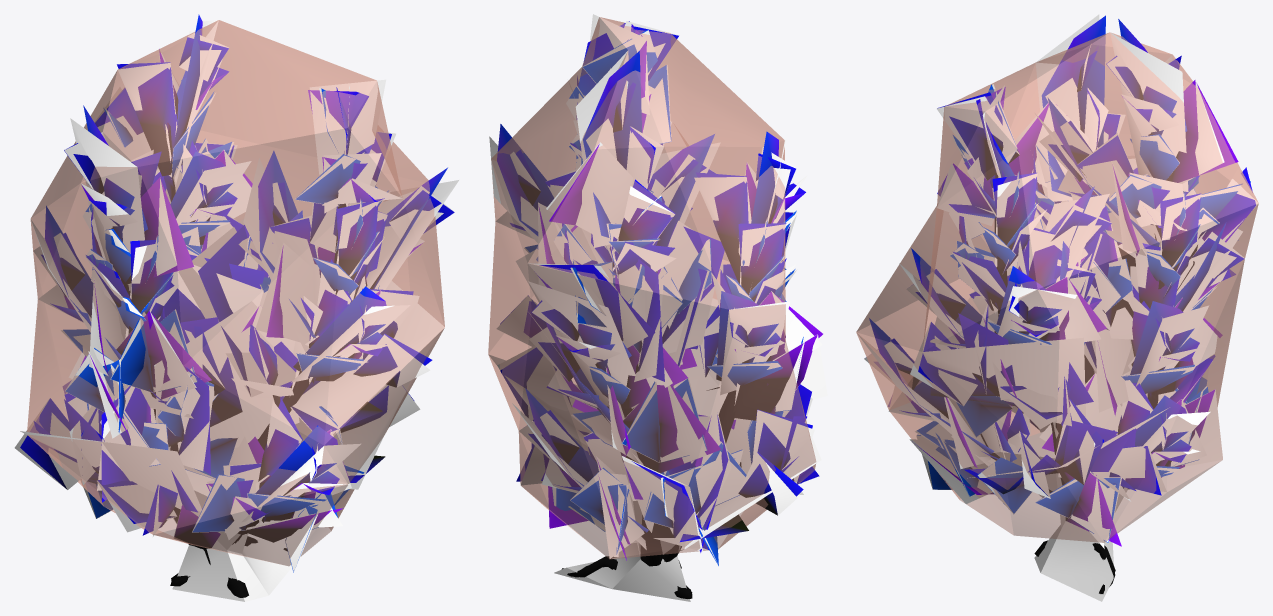
File: Juniper_tree_02.dae
The picture shows the model from 3 angles, left to right: view 1: azimuth 30°, elevation 25°; view 2: azimuth 150°, elevation 25°; view 3: azimuth 270°, elevation 25°; orthographic projection. The views are drawn at different scales.
Parts seen in each view (by area): view 1: Colmesh-1, Juniper_tree_02_a300, Juniper_tree_02_a800; view 2: Colmesh-1, Juniper_tree_02_a300, Juniper_tree_02_a800; view 3: Colmesh-1, Juniper_tree_02_a300, Juniper_tree_02_a800.
Boxes of the visible parts, <box> form: Colmesh-1: <box>27,20,444,601</box>; Juniper_tree_02_a300: <box>14,20,458,597</box>; Juniper_tree_02_a800: <box>20,14,454,597</box>; Colmesh-1: <box>488,17,816,601</box>; Juniper_tree_02_a300: <box>489,14,827,596</box>; Juniper_tree_02_a800: <box>497,21,822,598</box>; Colmesh-1: <box>856,32,1258,601</box>; Juniper_tree_02_a300: <box>857,14,1258,593</box>; Juniper_tree_02_a800: <box>869,15,1255,593</box>.
Bounding box in the file's own units: 5.37 × 4.99 × 7.4.
